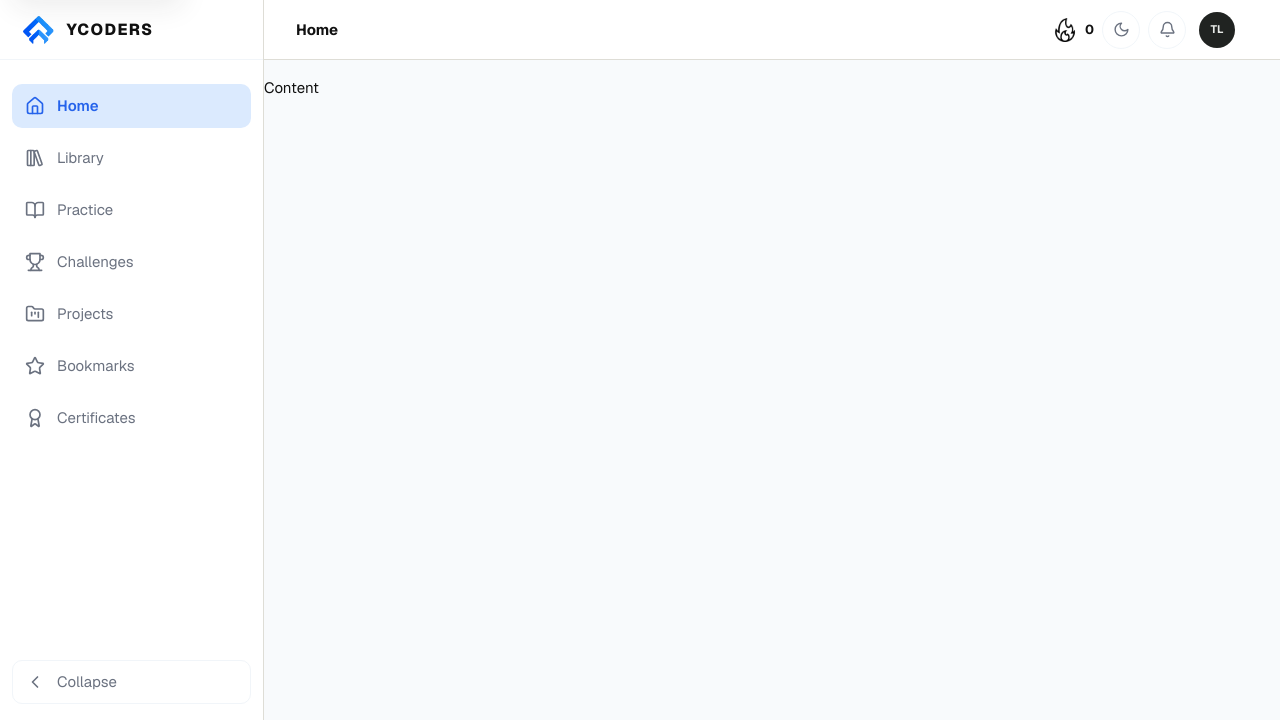
Test: AppShell account navigation menu › orders utility destinations before Sign out and reuses their existing icons
Click the button with aria-label "Open user menu" at (1221, 30), box [1194,6,1248,52]
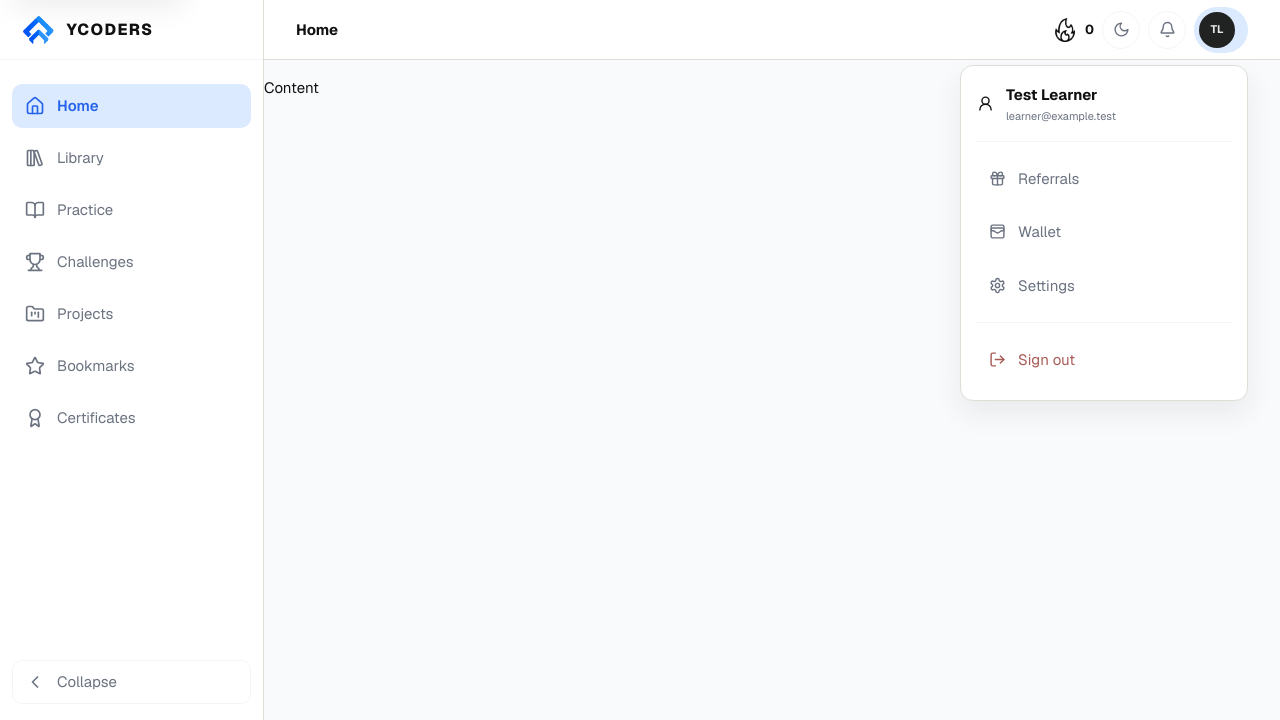
Expected: the menu items read "Referrals", "Wallet", "Settings", "Sign out", in this order, [977,154,1231,203]; [977,207,1231,256]; [977,260,1231,310]; [977,335,1231,384]
